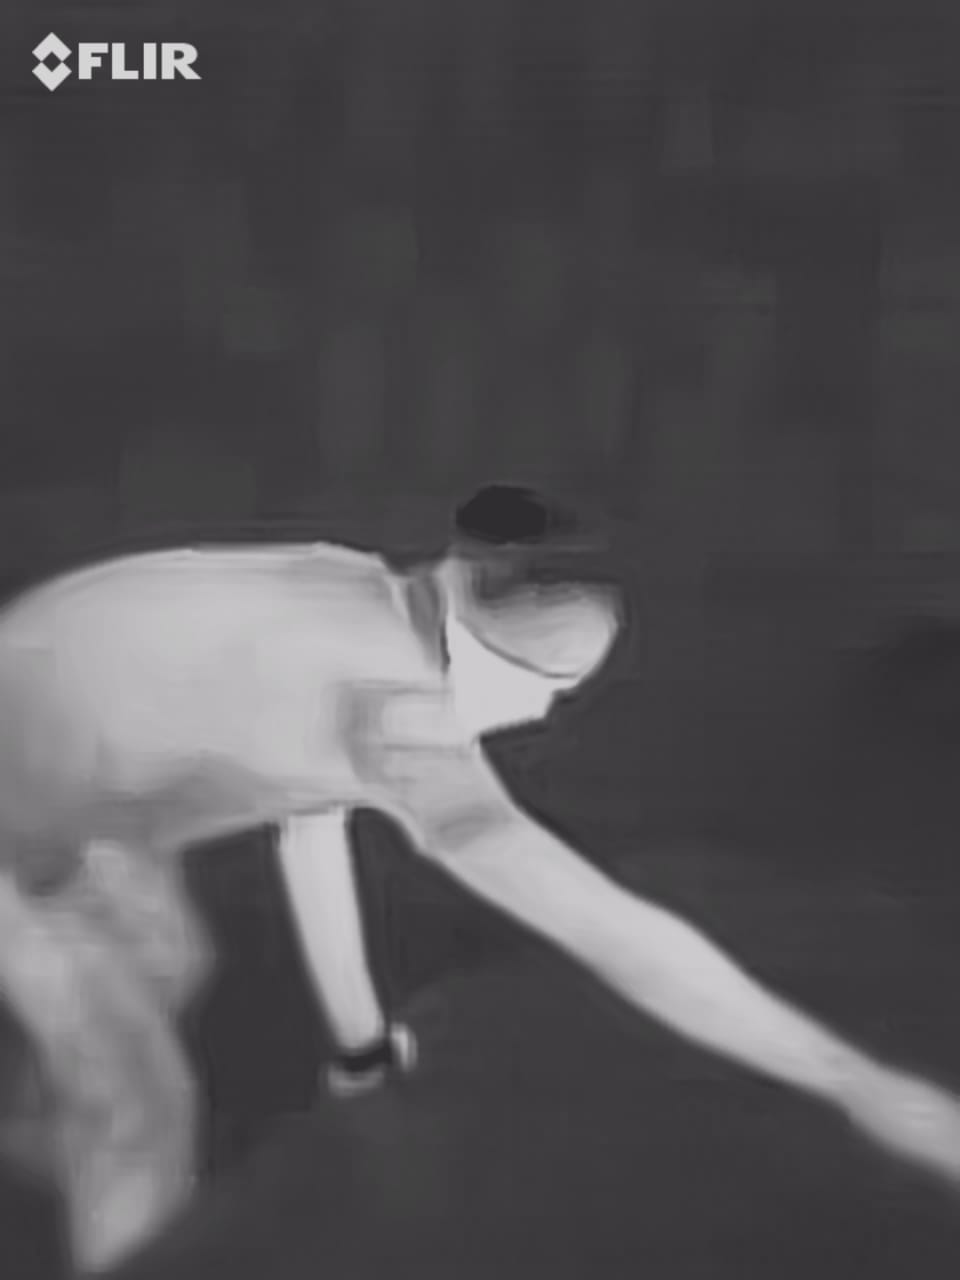head: (425, 484, 626, 769)
